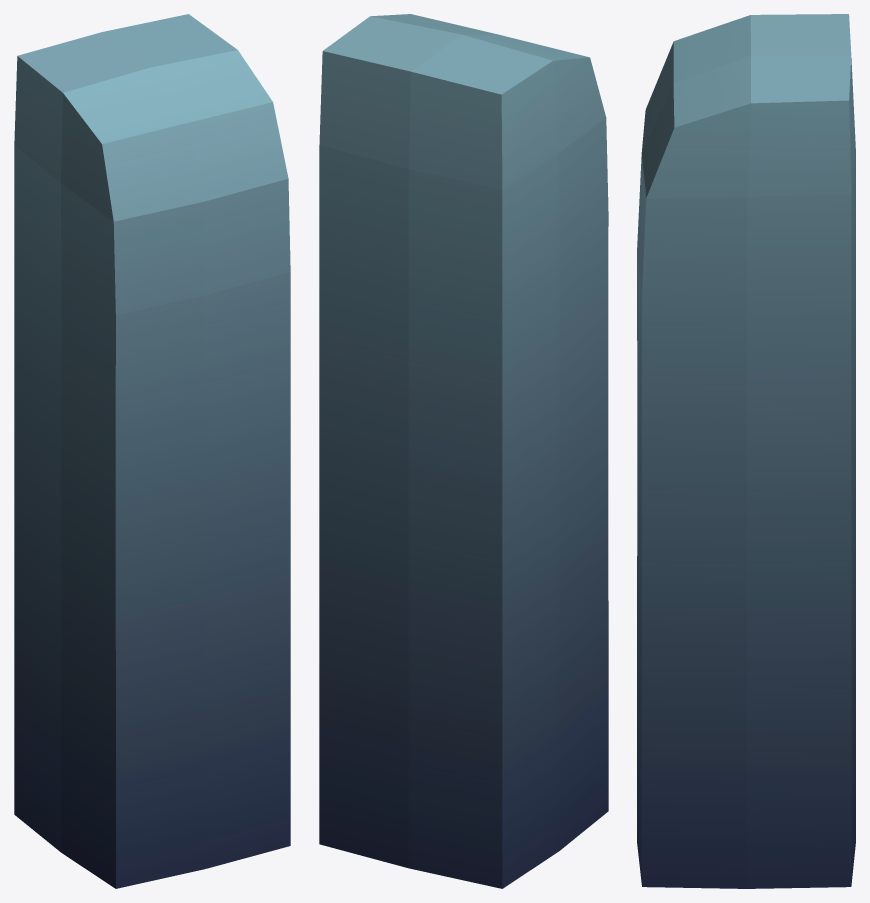
The model's file is Pared-3.fbx.
The picture shows the model from 3 angles, left to right: view 1: azimuth 30°, elevation 25°; view 2: azimuth 150°, elevation 25°; view 3: azimuth 270°, elevation 25°; orthographic projection. The views are drawn at different scales.
Visible parts, largest first — view 1: 1Lineaa.001; view 2: 1Lineaa.001; view 3: 1Lineaa.001.
Part boxes in pixels (box(x1,y1,x2,y2)): 1Lineaa.001: box(14, 14, 290, 888); 1Lineaa.001: box(319, 14, 608, 888); 1Lineaa.001: box(637, 14, 855, 888).
Size of the model in its own units: 200 by 796 by 200.
